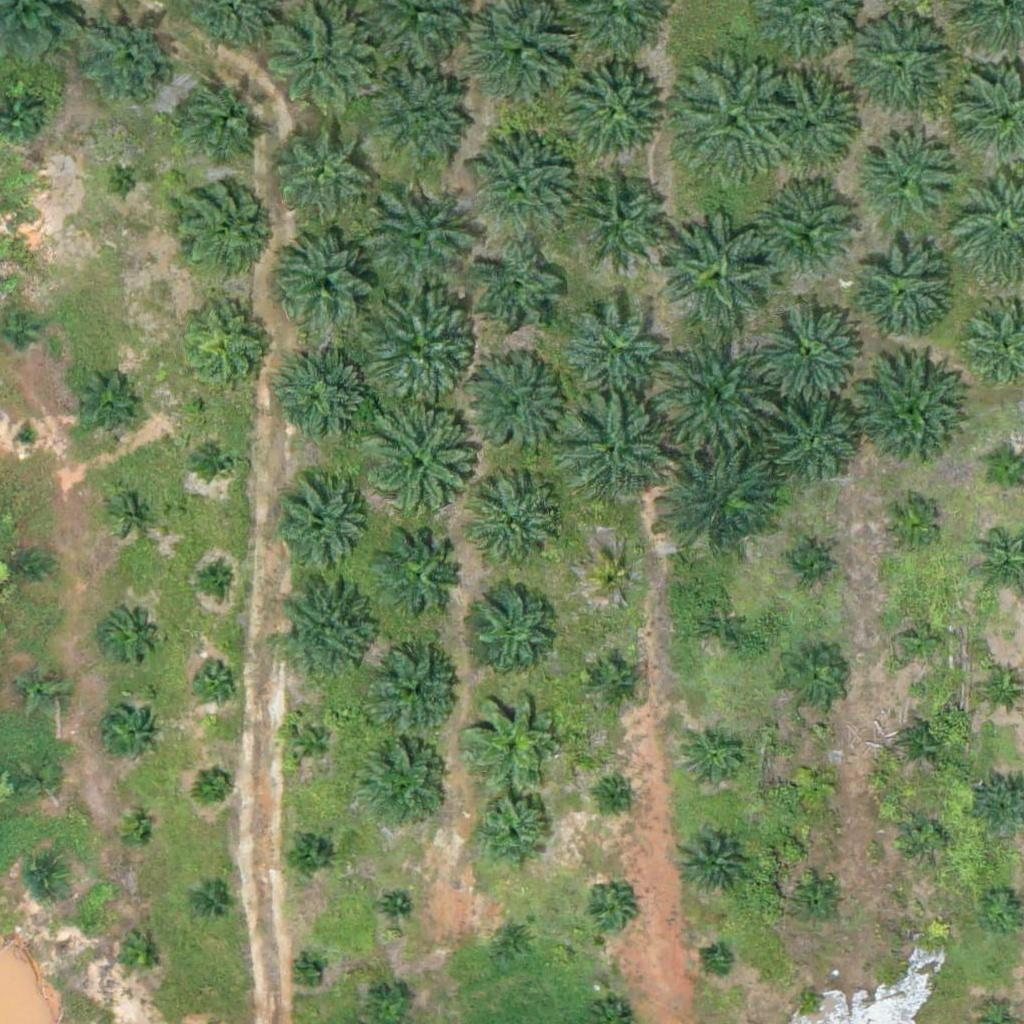Kelapa_Sawit: (668, 58, 793, 184), (653, 328, 778, 454), (661, 439, 786, 565), (354, 286, 479, 411), (354, 405, 479, 530), (852, 359, 965, 473), (561, 397, 674, 510), (466, 132, 579, 245), (363, 63, 476, 176), (360, 181, 473, 294), (753, 289, 865, 403), (663, 209, 775, 323), (265, 8, 377, 121), (845, 16, 945, 117), (857, 132, 957, 233), (759, 65, 859, 166), (565, 298, 665, 399), (469, 244, 569, 345), (464, 353, 564, 454), (267, 114, 367, 215), (278, 231, 378, 332), (275, 350, 375, 451), (272, 478, 372, 579), (170, 69, 270, 170), (172, 175, 272, 276), (177, 296, 277, 397), (462, 688, 562, 789), (280, 580, 380, 681), (849, 241, 949, 341), (762, 180, 862, 280), (562, 60, 662, 160), (571, 168, 671, 268), (474, 4, 574, 104), (475, 482, 563, 571), (469, 789, 557, 877), (771, 400, 859, 488), (360, 738, 448, 826), (372, 646, 460, 734), (379, 533, 467, 621), (85, 14, 172, 103), (469, 578, 556, 666), (675, 825, 750, 901), (72, 377, 135, 440), (879, 493, 942, 556), (890, 610, 953, 673), (783, 648, 845, 711), (683, 727, 745, 790), (99, 704, 161, 767), (687, 597, 749, 660), (900, 718, 950, 769), (102, 607, 152, 658), (901, 812, 951, 863), (780, 539, 830, 590), (789, 758, 839, 809), (115, 931, 165, 982), (18, 664, 68, 715), (590, 656, 640, 706), (795, 879, 845, 929), (584, 885, 634, 935), (491, 917, 541, 967), (283, 827, 333, 877), (591, 556, 641, 606), (286, 718, 336, 768), (191, 654, 241, 704), (8, 549, 46, 587), (105, 165, 143, 203), (202, 443, 240, 481), (118, 816, 156, 853), (196, 560, 233, 598), (114, 493, 151, 531), (25, 762, 63, 799), (198, 764, 235, 802), (194, 888, 231, 925), (26, 860, 63, 897), (704, 948, 729, 974), (797, 986, 822, 1011), (295, 958, 320, 983), (605, 784, 630, 809), (14, 423, 39, 448), (383, 894, 407, 919)
